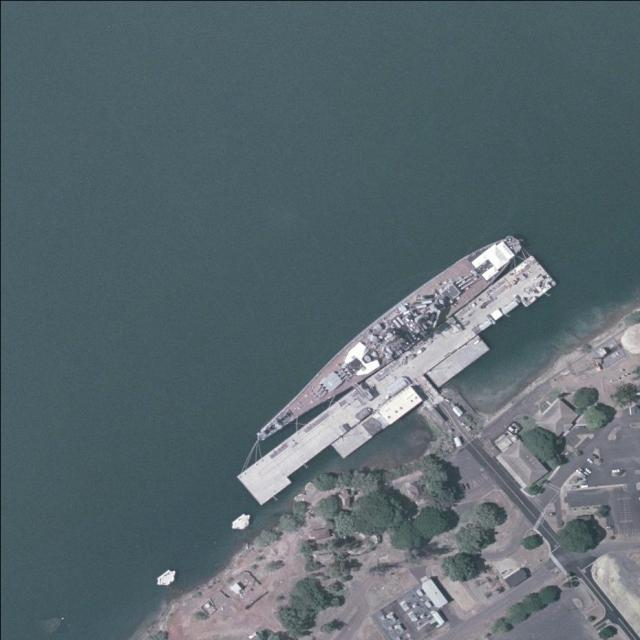Dock: (237, 253, 553, 506)
Other Warship: (244, 225, 529, 452)
